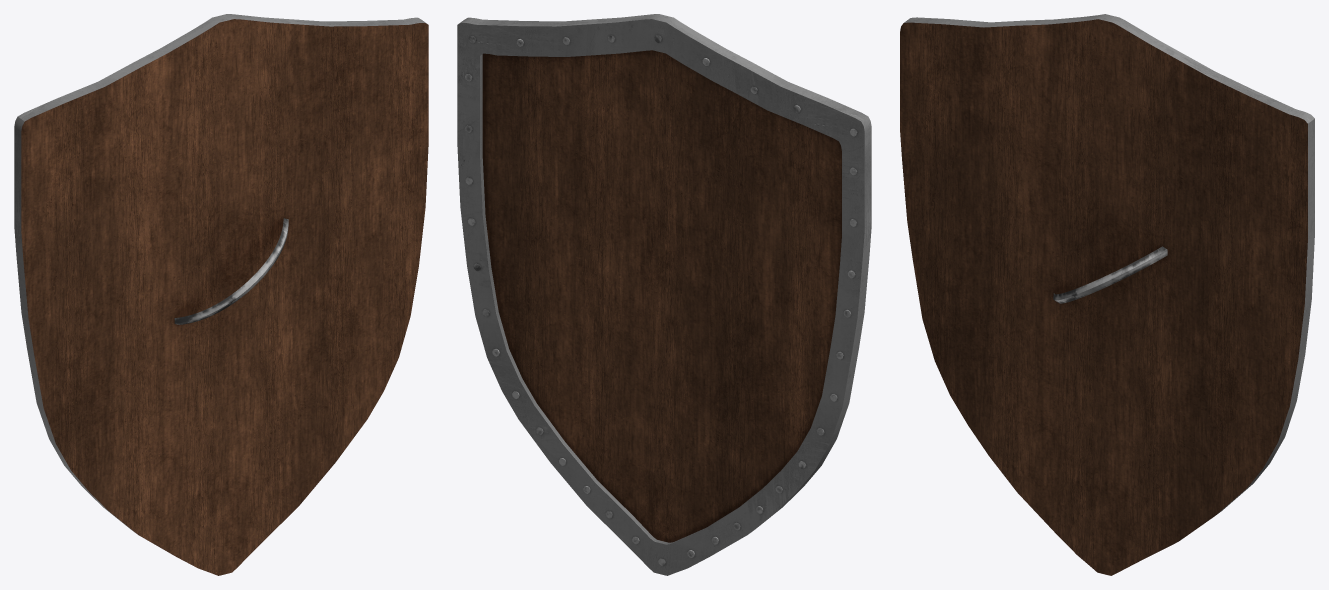
File: Shield_01.fbx
3 views of the same model, side by side, from view 1: azimuth 30°, elevation 25°; view 2: azimuth 150°, elevation 25°; view 3: azimuth 330°, elevation 25° (orthographic).
Visible parts, largest first — view 1: Shield_01; view 2: Shield_01; view 3: Shield_01.
Boxes of the visible parts, left/top/right/bottom form: Shield_01: left=14, top=14, right=428, bottom=575; Shield_01: left=457, top=14, right=871, bottom=575; Shield_01: left=900, top=14, right=1314, bottom=575.
Size of the model in its own units: 26.52 by 34.4 by 3.1.
Materials: 5 (5 with a texture image).
